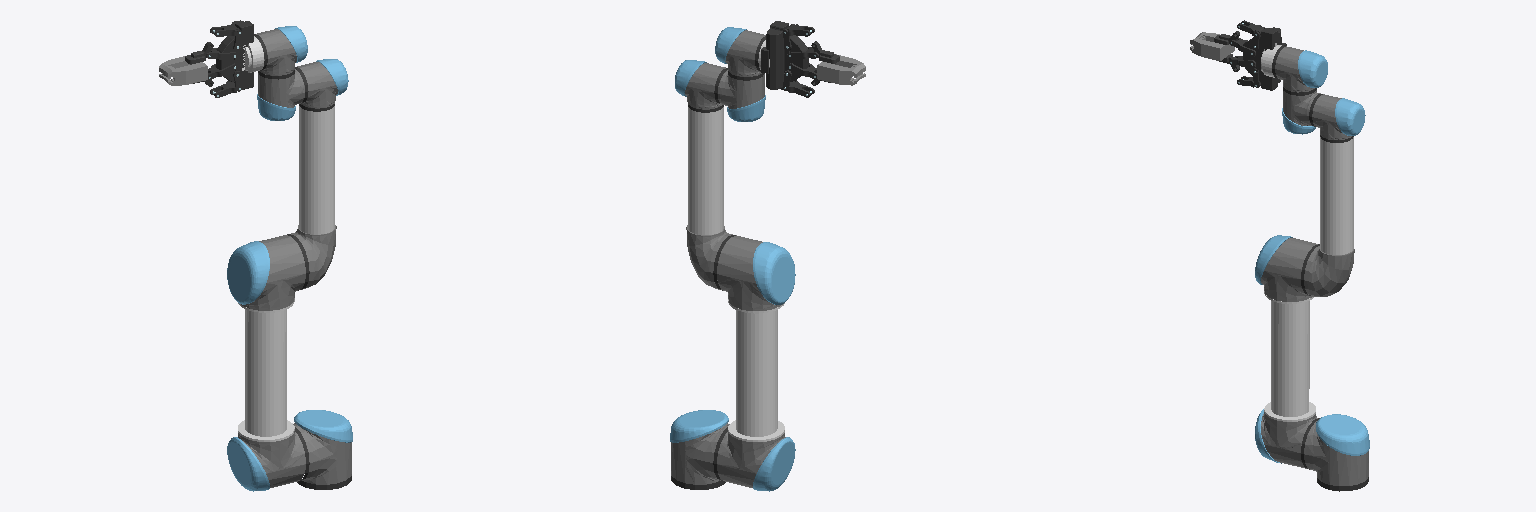
--- What the picture shows (computed from the rendered views, not written in the file) ---
Views: 3 orthographic renders of the robot side by side, from view 1: azimuth 30°, elevation 25°; view 2: azimuth 150°, elevation 25°; view 3: azimuth 330°, elevation 25°.
Model robot_base_respondable with 17 links and 16 joints (10 revolute, 6 continuous), rooted at robot_base, posed every joint at zero.
Links seen in each view (by area): view 1: link_2_respondable_respondable_respondable_respondable_respondab, link_3_respondable_respondable_respondable_respondable_respondab, link_respondable_respondable_respondable_respondable_respondable, link_5_respondable_respondable_respondable_respondable_respondab, link_4_respondable_respondable_respondable_respondable_respondab, robotiq_base_respondable_respondable_respondable_respondable_res, dynamic, link_6_respondable_respondable_respondable_respondable_respondab; view 2: link_2_respondable_respondable_respondable_respondable_respondab, link_3_respondable_respondable_respondable_respondable_respondab, link_respondable_respondable_respondable_respondable_respondable, link_5_respondable_respondable_respondable_respondable_respondab, link_4_respondable_respondable_respondable_respondable_respondab, robotiq_base_respondable_respondable_respondable_respondable_res, dynamic; view 3: link_2_respondable_respondable_respondable_respondable_respondab, link_3_respondable_respondable_respondable_respondable_respondab, link_respondable_respondable_respondable_respondable_respondable, link_5_respondable_respondable_respondable_respondable_respondab, link_4_respondable_respondable_respondable_respondable_respondab, robotiq_base_respondable_respondable_respondable_respondable_res, dynamic.
Boxes of the visible links, left/top/right/bottom form: link_2_respondable_respondable_respondable_respondable_respondab: left=227, top=234, right=309, bottom=491; link_3_respondable_respondable_respondable_respondable_respondab: left=288, top=59, right=348, bottom=289; link_respondable_respondable_respondable_respondable_respondable: left=293, top=410, right=352, bottom=484; link_5_respondable_respondable_respondable_respondable_respondab: left=254, top=26, right=307, bottom=79; link_4_respondable_respondable_respondable_respondable_respondab: left=257, top=66, right=308, bottom=120; robotiq_base_respondable_respondable_respondable_respondable_res: left=216, top=20, right=253, bottom=89; dynamic: left=159, top=56, right=207, bottom=85; link_6_respondable_respondable_respondable_respondable_respondab: left=245, top=36, right=263, bottom=72; link_2_respondable_respondable_respondable_respondable_respondab: left=713, top=235, right=795, bottom=491; link_3_respondable_respondable_respondable_respondable_respondab: left=675, top=60, right=732, bottom=289; link_respondable_respondable_respondable_respondable_respondable: left=670, top=410, right=729, bottom=484; link_5_respondable_respondable_respondable_respondable_respondab: left=715, top=27, right=765, bottom=80; link_4_respondable_respondable_respondable_respondable_respondab: left=714, top=68, right=765, bottom=121; robotiq_base_respondable_respondable_respondable_respondable_res: left=761, top=21, right=808, bottom=89; dynamic: left=817, top=54, right=865, bottom=85; link_2_respondable_respondable_respondable_respondable_respondab: left=1255, top=235, right=1319, bottom=468; link_3_respondable_respondable_respondable_respondable_respondab: left=1304, top=94, right=1365, bottom=296; link_respondable_respondable_respondable_respondable_respondable: left=1301, top=414, right=1369, bottom=485; link_5_respondable_respondable_respondable_respondable_respondab: left=1272, top=46, right=1327, bottom=95; link_4_respondable_respondable_respondable_respondable_respondab: left=1282, top=90, right=1322, bottom=134; robotiq_base_respondable_respondable_respondable_respondable_res: left=1243, top=27, right=1286, bottom=90; dynamic: left=1190, top=32, right=1234, bottom=60.
Bounding box of the posed robot: 0.4362 × 0.12 × 1.06 m (x, y, z).
Meshes: 42 distinct files referenced, 42 mesh visuals loaded (42 Collada DAE).

URDF robot description (robot_base_respondable):
<?xml version="1.0"?>
<robot name="robot_base_respondable">
    <link name="robot_base">
        <collision name="robot_base_respondable">
            <origin rpy="3.141592 3.141593 -2.552481" xyz="0.000000 0.000000 0.008500" />
            <geometry>
                <cylinder length="0.012300089001656" radius="0.056886240839958" />
            </geometry>
        </collision>
        <collision name="robot_base_respondable">
            <origin rpy="-3.141592 3.141593 1.747927" xyz="0.000000 0.000000 -0.006150" />
            <geometry>
                <cylinder length="0.017000352963805" radius="0.072642646729946" />
            </geometry>
        </collision>
        <visual name="robot_base_visual">
            <origin rpy="3.141592 3.141593 3.141592" xyz="0.000000 0.000000 -0.000000" />
            <geometry>
                <mesh filename="models/urdf/ur5_industrial_09301/ur5_industrial_09301_robot_base_visual_vis_1.dae" />
            </geometry>
            <material name="robot_base_visual_material">
                <color rgba="0.282353 0.282353 0.282353 1.0" />
            </material>
        </visual>
    </link>
    <joint name="joint" type="revolute">
        <axis xyz="0 0 1" />
        <limit upper="6.2831854820251" velocity="1.5707963705063" effort="200.0" lower="-6.2831854820251" />
        <parent link="robot_base" />
        <child link="link_respondable_respondable_respondable_respondable_respondable_respondable" />
        <origin rpy="3.141592 3.141593 3.141592" xyz="-0.000000 0.000000 0.008500" />
    </joint>
    <link name="link_respondable_respondable_respondable_respondable_respondable_respondable">
        <inertial>
            <origin rpy="3.141592 3.141593 3.141592" xyz="-0.012312 0.000048 0.066405" />
            <inertia izz="0.09818059467752" iyy="0.10672965841326" ixy="8.9516803607533e-05" ixx="0.095492165355254" iyz="-7.9251186174956e-05" ixz="0.0024490834762624" />
            <mass value="2.5" />
        </inertial>
        <collision name="link_respondable_respondable_respondable_respondable_respondable_respondable">
            <origin rpy="3.141592 3.141593 3.141592" xyz="-0.007178 0.000095 0.070381" />
            <geometry>
                <mesh filename="models/urdf/ur5_industrial_09301/ur5_industrial_09301_link_respondable_respondable_respondable_respondable_respondable_respondable_coll_1.dae" />
            </geometry>
        </collision>
        <collision name="link_respondable_respondable_respondable_respondable_respondable_respondable">
            <origin rpy="3.141592 3.141593 3.141592" xyz="-0.007178 0.000095 0.070381" />
            <geometry>
                <mesh filename="models/urdf/ur5_industrial_09301/ur5_industrial_09301_link_respondable_respondable_respondable_respondable_respondable_respondable_coll_2.dae" />
            </geometry>
        </collision>
        <collision name="link_respondable_respondable_respondable_respondable_respondable_respondable">
            <origin rpy="3.141592 3.141593 3.141592" xyz="-0.007178 0.000095 0.070381" />
            <geometry>
                <mesh filename="models/urdf/ur5_industrial_09301/ur5_industrial_09301_link_respondable_respondable_respondable_respondable_respondable_respondable_coll_3.dae" />
            </geometry>
        </collision>
        <visual name="link_respondable_respondable_respondable_respondable_respondable_visual">
            <origin rpy="3.141592 3.141593 3.141592" xyz="-0.007150 0.000000 0.070335" />
            <geometry>
                <mesh filename="models/urdf/ur5_industrial_09301/ur5_industrial_09301_link_respondable_respondable_respondable_respondable_respondable_visual_vis_1.dae" />
            </geometry>
            <material name="link_respondable_respondable_respondable_respondable_respondable_visual_material">
                <color rgba="0.282353 0.282353 0.282353 1.0" />
            </material>
        </visual>
        <visual name="link_respondable_respondable_respondable_respondable_respondable_visual">
            <origin rpy="3.141592 3.141593 3.141592" xyz="-0.007150 0.000000 0.070335" />
            <geometry>
                <mesh filename="models/urdf/ur5_industrial_09301/ur5_industrial_09301_link_respondable_respondable_respondable_respondable_respondable_visual_vis_2.dae" />
            </geometry>
            <material name="link_respondable_respondable_respondable_respondable_respondable_visual_material">
                <color rgba="0.535294 0.535294 0.535294 1.0" />
            </material>
        </visual>
        <visual name="link_respondable_respondable_respondable_respondable_respondable_visual">
            <origin rpy="3.141592 3.141593 3.141592" xyz="-0.007150 0.000000 0.070335" />
            <geometry>
                <mesh filename="models/urdf/ur5_industrial_09301/ur5_industrial_09301_link_respondable_respondable_respondable_respondable_respondable_visual_vis_3.dae" />
            </geometry>
            <material name="link_respondable_respondable_respondable_respondable_respondable_visual_material">
                <color rgba="0.508235 0.761224 0.903529 1.0" />
            </material>
        </visual>
    </link>
    <joint name="joint_2" type="revolute">
        <axis xyz="0 0 1" />
        <limit upper="6.2831854820251" velocity="1.5707963705063" effort="200.0" lower="-6.2831854820251" />
        <parent link="link_respondable_respondable_respondable_respondable_respondable_respondable" />
        <child link="link_2_respondable_respondable_respondable_respondable_respondable_respondable" />
        <origin rpy="0.000001 -1.570796 0.000000" xyz="-0.070300 0.000000 0.066050" />
    </joint>
    <link name="link_2_respondable_respondable_respondable_respondable_respondable_respondable">
        <inertial>
            <origin rpy="-0.000000 1.570796 0.000000" xyz="0.215595 -0.000035 0.063573" />
            <inertia izz="0.067345368316432" iyy="0.63325135224174" ixy="9.2431180680848e-06" ixx="0.62573305153059" iyz="-0.00017721757850982" ixz="-0.0052638063542259" />
            <mass value="5.6999998092651" />
        </inertial>
        <collision name="link_2_respondable_respondable_respondable_respondable_respondable_respondable">
            <origin rpy="-0.000000 1.570796 0.000000" xyz="0.212550 -0.000115 0.064235" />
            <geometry>
                <mesh filename="models/urdf/ur5_industrial_09301/ur5_industrial_09301_link_2_respondable_respondable_respondable_respondable_respondable_respondable_coll_1.dae" />
            </geometry>
        </collision>
        <collision name="link_2_respondable_respondable_respondable_respondable_respondable_respondable">
            <origin rpy="-0.000000 1.570796 0.000000" xyz="0.212550 -0.000115 0.064235" />
            <geometry>
                <mesh filename="models/urdf/ur5_industrial_09301/ur5_industrial_09301_link_2_respondable_respondable_respondable_respondable_respondable_respondable_coll_2.dae" />
            </geometry>
        </collision>
        <collision name="link_2_respondable_respondable_respondable_respondable_respondable_respondable">
            <origin rpy="-0.000000 1.570796 0.000000" xyz="0.212550 -0.000115 0.064235" />
            <geometry>
                <mesh filename="models/urdf/ur5_industrial_09301/ur5_industrial_09301_link_2_respondable_respondable_respondable_respondable_respondable_respondable_coll_3.dae" />
            </geometry>
        </collision>
        <collision name="link_2_respondable_respondable_respondable_respondable_respondable_respondable">
            <origin rpy="-0.000000 1.570796 0.000000" xyz="0.212550 -0.000115 0.064235" />
            <geometry>
                <mesh filename="models/urdf/ur5_industrial_09301/ur5_industrial_09301_link_2_respondable_respondable_respondable_respondable_respondable_respondable_coll_4.dae" />
            </geometry>
        </collision>
        <collision name="link_2_respondable_respondable_respondable_respondable_respondable_respondable">
            <origin rpy="-0.000000 1.570796 0.000000" xyz="0.212550 -0.000115 0.064235" />
            <geometry>
                <mesh filename="models/urdf/ur5_industrial_09301/ur5_industrial_09301_link_2_respondable_respondable_respondable_respondable_respondable_respondable_coll_5.dae" />
            </geometry>
        </collision>
        <collision name="link_2_respondable_respondable_respondable_respondable_respondable_respondable">
            <origin rpy="-0.000000 1.570796 0.000000" xyz="0.212550 -0.000115 0.064235" />
            <geometry>
                <mesh filename="models/urdf/ur5_industrial_09301/ur5_industrial_09301_link_2_respondable_respondable_respondable_respondable_respondable_respondable_coll_6.dae" />
            </geometry>
        </collision>
        <collision name="link_2_respondable_respondable_respondable_respondable_respondable_respondable">
            <origin rpy="-0.000000 1.570796 0.000000" xyz="0.212550 -0.000115 0.064235" />
            <geometry>
                <mesh filename="models/urdf/ur5_industrial_09301/ur5_industrial_09301_link_2_respondable_respondable_respondable_respondable_respondable_respondable_coll_7.dae" />
            </geometry>
        </collision>
        <visual name="link_2_respondable_respondable_respondable_respondable_respondable_visual">
            <origin rpy="-0.000000 1.570796 0.000000" xyz="0.212550 0.000000 0.064217" />
            <geometry>
                <mesh filename="models/urdf/ur5_industrial_09301/ur5_industrial_09301_link_2_respondable_respondable_respondable_respondable_respondable_visual_vis_1.dae" />
            </geometry>
            <material name="link_2_respondable_respondable_respondable_respondable_respondable_visual_material">
                <color rgba="0.870588 0.870588 0.870588 1.0" />
            </material>
        </visual>
        <visual name="link_2_respondable_respondable_respondable_respondable_respondable_visual">
            <origin rpy="-0.000000 1.570796 0.000000" xyz="0.212550 0.000000 0.064217" />
            <geometry>
                <mesh filename="models/urdf/ur5_industrial_09301/ur5_industrial_09301_link_2_respondable_respondable_respondable_respondable_respondable_visual_vis_2.dae" />
            </geometry>
            <material name="link_2_respondable_respondable_respondable_respondable_respondable_visual_material">
                <color rgba="0.508235 0.761224 0.903529 1.0" />
            </material>
        </visual>
        <visual name="link_2_respondable_respondable_respondable_respondable_respondable_visual">
            <origin rpy="-0.000000 1.570796 0.000000" xyz="0.212550 0.000000 0.064217" />
            <geometry>
                <mesh filename="models/urdf/ur5_industrial_09301/ur5_industrial_09301_link_2_respondable_respondable_respondable_respondable_respondable_visual_vis_3.dae" />
            </geometry>
            <material name="link_2_respondable_respondable_respondable_respondable_respondable_visual_material">
                <color rgba="0.535294 0.535294 0.535294 1.0" />
            </material>
        </visual>
        <visual name="link_2_respondable_respondable_respondable_respondable_respondable_visual">
            <origin rpy="-0.000000 1.570796 0.000000" xyz="0.212550 0.000000 0.064217" />
            <geometry>
                <mesh filename="models/urdf/ur5_industrial_09301/ur5_industrial_09301_link_2_respondable_respondable_respondable_respondable_respondable_visual_vis_4.dae" />
            </geometry>
            <material name="link_2_respondable_respondable_respondable_respondable_respondable_visual_material">
                <color rgba="0.282353 0.282353 0.282353 1.0" />
            </material>
        </visual>
        <visual name="link_2_respondable_respondable_respondable_respondable_respondable_visual">
            <origin rpy="-0.000000 1.570796 0.000000" xyz="0.212550 0.000000 0.064217" />
            <geometry>
                <mesh filename="models/urdf/ur5_industrial_09301/ur5_industrial_09301_link_2_respondable_respondable_respondable_respondable_respondable_visual_vis_5.dae" />
            </geometry>
            <material name="link_2_respondable_respondable_respondable_respondable_respondable_visual_material">
                <color rgba="0.535294 0.535294 0.535294 1.0" />
            </material>
        </visual>
        <visual name="link_2_respondable_respondable_respondable_respondable_respondable_visual">
            <origin rpy="-0.000000 1.570796 0.000000" xyz="0.212550 0.000000 0.064217" />
            <geometry>
                <mesh filename="models/urdf/ur5_industrial_09301/ur5_industrial_09301_link_2_respondable_respondable_respondable_respondable_respondable_visual_vis_6.dae" />
            </geometry>
            <material name="link_2_respondable_respondable_respondable_respondable_respondable_visual_material">
                <color rgba="0.508235 0.761224 0.903529 1.0" />
            </material>
        </visual>
    </link>
    <joint name="joint_3" type="revolute">
        <axis xyz="0 0 1" />
        <limit upper="6.2831854820251" velocity="1.5707963705063" effort="200.0" lower="-6.2831854820251" />
        <parent link="link_2_respondable_respondable_respondable_respondable_respondable_respondable" />
        <child link="link_3_respondable_respondable_respondable_respondable_respondable_respondable" />
        <origin rpy="3.141593 3.141592 3.141592" xyz="0.425100 -0.000000 0.000000" />
    </joint>
    <link name="link_3_respondable_respondable_respondable_respondable_respondable_respondable">
        <inertial>
            <origin rpy="0.000000 1.570796 0.000000" xyz="0.192773 0.000015 -0.050153" />
            <inertia izz="0.035597955537677" iyy="0.46060709235019" ixy="2.2187787147887e-06" ixx="0.4592564485459" iyz="-2.1029099787318e-05" ixz="-0.027670910392482" />
            <mass value="3.9000000953674" />
        </inertial>
        <collision name="link_3_respondable_respondable_respondable_respondable_respondable_respondable">
            <origin rpy="0.000000 1.570796 0.000000" xyz="0.186773 0.000016 -0.057847" />
            <geometry>
                <mesh filename="models/urdf/ur5_industrial_09301/ur5_industrial_09301_link_3_respondable_respondable_respondable_respondable_respondable_respondable_coll_1.dae" />
            </geometry>
        </collision>
        <collision name="link_3_respondable_respondable_respondable_respondable_respondable_respondable">
            <origin rpy="0.000000 1.570796 0.000000" xyz="0.186773 0.000016 -0.057847" />
            <geometry>
                <mesh filename="models/urdf/ur5_industrial_09301/ur5_industrial_09301_link_3_respondable_respondable_respondable_respondable_respondable_respondable_coll_2.dae" />
            </geometry>
        </collision>
        <collision name="link_3_respondable_respondable_respondable_respondable_respondable_respondable">
            <origin rpy="0.000000 1.570796 0.000000" xyz="0.186773 0.000016 -0.057847" />
            <geometry>
                <mesh filename="models/urdf/ur5_industrial_09301/ur5_industrial_09301_link_3_respondable_respondable_respondable_respondable_respondable_respondable_coll_3.dae" />
            </geometry>
        </collision>
        <collision name="link_3_respondable_respondable_respondable_respondable_respondable_respondable">
            <origin rpy="0.000000 1.570796 0.000000" xyz="0.186773 0.000016 -0.057847" />
            <geometry>
                <mesh filename="models/urdf/ur5_industrial_09301/ur5_industrial_09301_link_3_respondable_respondable_respondable_respondable_respondable_respondable_coll_4.dae" />
            </geometry>
        </collision>
        <collision name="link_3_respondable_respondable_respondable_respondable_respondable_respondable">
            <origin rpy="0.000000 1.570796 0.000000" xyz="0.186773 0.000016 -0.057847" />
            <geometry>
                <mesh filename="models/urdf/ur5_industrial_09301/ur5_industrial_09301_link_3_respondable_respondable_respondable_respondable_respondable_respondable_coll_5.dae" />
            </geometry>
        </collision>
        <visual name="link_3_respondable_respondable_respondable_respondable_respondable_visual">
            <origin rpy="0.000000 1.570796 0.000000" xyz="0.186650 -0.000000 -0.057850" />
            <geometry>
                <mesh filename="models/urdf/ur5_industrial_09301/ur5_industrial_09301_link_3_respondable_respondable_respondable_respondable_respondable_visual_vis_1.dae" />
            </geometry>
            <material name="link_3_respondable_respondable_respondable_respondable_respondable_visual_material">
                <color rgba="0.870588 0.870588 0.870588 1.0" />
            </material>
        </visual>
        <visual name="link_3_respondable_respondable_respondable_respondable_respondable_visual">
            <origin rpy="0.000000 1.570796 0.000000" xyz="0.186650 -0.000000 -0.057850" />
            <geometry>
                <mesh filename="models/urdf/ur5_industrial_09301/ur5_industrial_09301_link_3_respondable_respondable_respondable_respondable_respondable_visual_vis_2.dae" />
            </geometry>
            <material name="link_3_respondable_respondable_respondable_respondable_respondable_visual_material">
                <color rgba="0.535294 0.535294 0.535294 1.0" />
            </material>
        </visual>
        <visual name="link_3_respondable_respondable_respondable_respondable_respondable_visual">
            <origin rpy="0.000000 1.570796 0.000000" xyz="0.186650 -0.000000 -0.057850" />
            <geometry>
                <mesh filename="models/urdf/ur5_industrial_09301/ur5_industrial_09301_link_3_respondable_respondable_respondable_respondable_respondable_visual_vis_3.dae" />
            </geometry>
            <material name="link_3_respondable_respondable_respondable_respondable_respondable_visual_material">
                <color rgba="0.508235 0.761224 0.903529 1.0" />
            </material>
        </visual>
        <visual name="link_3_respondable_respondable_respondable_respondable_respondable_visual">
            <origin rpy="0.000000 1.570796 0.000000" xyz="0.186650 -0.000000 -0.057850" />
            <geometry>
                <mesh filename="models/urdf/ur5_industrial_09301/ur5_industrial_09301_link_3_respondable_respondable_respondable_respondable_respondable_visual_vis_4.dae" />
            </geometry>
            <material name="link_3_respondable_respondable_respondable_respondable_respondable_visual_material">
                <color rgba="0.282353 0.282353 0.282353 1.0" />
            </material>
        </visual>
        <visual name="link_3_respondable_respondable_respondable_respondable_respondable_visual">
            <origin rpy="0.000000 1.570796 0.000000" xyz="0.186650 -0.000000 -0.057850" />
            <geometry>
                <mesh filename="models/urdf/ur5_industrial_09301/ur5_industrial_09301_link_3_respondable_respondable_respondable_respondable_respondable_visual_vis_5.dae" />
            </geometry>
            <material name="link_3_respondable_respondable_respondable_respondable_respondable_visual_material">
                <color rgba="0.535294 0.535294 0.535294 1.0" />
            </material>
        </visual>
    </link>
    <joint name="joint_4" type="revolute">
        <axis xyz="0 0 1" />
        <limit upper="6.2831854820251" velocity="1.5707963705063" effort="200.0" lower="-6.2831854820251" />
        <parent link="link_3_respondable_respondable_respondable_respondable_respondable_respondable" />
        <child link="link_4_respondable_respondable_respondable_respondable_respondable_respondable" />
        <origin rpy="3.141593 3.141592 3.141592" xyz="0.392150 -0.000000 0.000000" />
    </joint>
    <link name="link_4_respondable_respondable_respondable_respondable_respondable_respondable">
        <inertial>
            <origin rpy="0.000000 1.570796 0.000000" xyz="-0.005517 -0.000003 0.030943" />
            <inertia izz="0.087106483494915" iyy="0.11466452218562" ixy="3.1976010243315e-06" ixx="0.10017005794782" iyz="-1.791527123899e-05" ixz="-0.0020900872562349" />
            <mass value="2.5" />
        </inertial>
        <collision name="link_4_respondable_respondable_respondable_respondable_respondable_respondable">
            <origin rpy="0.000000 1.570796 0.000000" xyz="-0.007501 -0.000045 0.032830" />
            <geometry>
                <mesh filename="models/urdf/ur5_industrial_09301/ur5_industrial_09301_link_4_respondable_respondable_respondable_respondable_respondable_respondable_coll_1.dae" />
            </geometry>
        </collision>
        <collision name="link_4_respondable_respondable_respondable_respondable_respondable_respondable">
            <origin rpy="0.000000 1.570796 0.000000" xyz="-0.007501 -0.000045 0.032830" />
            <geometry>
                <mesh filename="models/urdf/ur5_industrial_09301/ur5_industrial_09301_link_4_respondable_respondable_respondable_respondable_respondable_respondable_coll_2.dae" />
            </geometry>
        </collision>
        <collision name="link_4_respondable_respondable_respondable_respondable_respondable_respondable">
            <origin rpy="0.000000 1.570796 0.000000" xyz="-0.007501 -0.000045 0.032830" />
            <geometry>
                <mesh filename="models/urdf/ur5_industrial_09301/ur5_industrial_09301_link_4_respondable_respondable_respondable_respondable_respondable_respondable_coll_3.dae" />
            </geometry>
        </collision>
        <visual name="link_4_respondable_respondable_respondable_respondable_respondable_visual">
            <origin rpy="0.000000 1.570796 0.000000" xyz="-0.007500 0.000000 0.032800" />
            <geometry>
                <mesh filename="models/urdf/ur5_industrial_09301/ur5_industrial_09301_link_4_respondable_respondable_respondable_respondable_respondable_visual_vis_1.dae" />
            </geometry>
            <material name="link_4_respondable_respondable_respondable_respondable_respondable_visual_material">
                <color rgba="0.282353 0.282353 0.282353 1.0" />
            </material>
        </visual>
        <visual name="link_4_respondable_respondable_respondable_respondable_respondable_visual">
            <origin rpy="0.000000 1.570796 0.000000" xyz="-0.007500 0.000000 0.032800" />
            <geometry>
                <mesh filename="models/urdf/ur5_industrial_09301/ur5_industrial_09301_link_4_respondable_respondable_respondable_respondable_respondable_visual_vis_2.dae" />
            </geometry>
            <material name="link_4_respondable_respondable_respondable_respondable_respondable_visual_material">
                <color rgba="0.535294 0.535294 0.535294 1.0" />
            </material>
        </visual>
        <visual name="link_4_respondable_respondable_respondable_respondable_respondable_visual">
            <origin rpy="0.000000 1.570796 0.000000" xyz="-0.007500 0.000000 0.032800" />
            <geometry>
                <mesh filename="models/urdf/ur5_industrial_09301/ur5_industrial_09301_link_4_respondable_respondable_respondable_respondable_respondable_visual_vis_3.dae" />
            </geometry>
            <material name="link_4_respondable_respondable_respondable_respondable_respondable_visual_material">
                <color rgba="0.508235 0.761224 0.903529 1.0" />
            </material>
        </visual>
    </link>
    <joint name="joint_5" type="revolute">
        <axis xyz="0 0 1" />
        <limit upper="6.2831854820251" velocity="1.5707963705063" effort="200.0" lower="-6.2831854820251" />
        <parent link="link_4_respondable_respondable_respondable_respondable_respondable_respondable" />
        <child link="link_5_respondable_respondable_respondable_respondable_respondable_respondable" />
        <origin rpy="2.596272 1.570799 2.596272" xyz="0.045575 -0.000000 0.039700" />
    </joint>
    <link name="link_5_respondable_respondable_respondable_respondable_respondable_respondable">
        <inertial>
            <origin rpy="3.141592 3.141593 3.141592" xyz="0.002100 0.000002 0.040669" />
            <inertia izz="0.1041509279002" iyy="0.11739579576874" ixy="-1.5531769026879e-05" ixx="0.08179215416809" iyz="3.8714712477568e-06" ixz="-0.00073245390311674" />
            <mass value="2.5" />
        </inertial>
        <collision name="link_5_respondable_respondable_respondable_respondable_respondable_respondable">
            <origin rpy="3.141592 3.141593 3.141592" xyz="0.003601 0.000045 0.042305" />
            <geometry>
                <mesh filename="models/urdf/ur5_industrial_09301/ur5_industrial_09301_link_5_respondable_respondable_respondable_respondable_respondable_respondable_coll_1.dae" />
            </geometry>
        </collision>
        <collision name="link_5_respondable_respondable_respondable_respondable_respondable_respondable">
            <origin rpy="3.141592 3.141593 3.141592" xyz="0.003601 0.000045 0.042305" />
            <geometry>
                <mesh filename="models/urdf/ur5_industrial_09301/ur5_industrial_09301_link_5_respondable_respondable_respondable_respondable_respondable_respondable_coll_2.dae" />
            </geometry>
        </collision>
        <collision name="link_5_respondable_respondable_respondable_respondable_respondable_respondable">
            <origin rpy="3.141592 3.141593 3.141592" xyz="0.003601 0.000045 0.042305" />
            <geometry>
                <mesh filename="models/urdf/ur5_industrial_09301/ur5_industrial_09301_link_5_respondable_respondable_respondable_respondable_respondable_respondable_coll_3.dae" />
            </geometry>
        </collision>
        <visual name="link_5_respondable_respondable_respondable_respondable_respondable_visual">
            <origin rpy="3.141592 3.141593 3.141592" xyz="0.003600 -0.000000 0.042275" />
            <geometry>
                <mesh filename="models/urdf/ur5_industrial_09301/ur5_industrial_09301_link_5_respondable_respondable_respondable_respondable_respondable_visual_vis_1.dae" />
            </geometry>
            <material name="link_5_respondable_respondable_respondable_respondable_respondable_visual_material">
                <color rgba="0.535294 0.535294 0.535294 1.0" />
            </material>
        </visual>
        <visual name="link_5_respondable_respondable_respondable_respondable_respondable_visual">
            <origin rpy="3.141592 3.141593 3.141592" xyz="0.003600 -0.000000 0.042275" />
            <geometry>
                <mesh filename="models/urdf/ur5_industrial_09301/ur5_industrial_09301_link_5_respondable_respondable_respondable_respondable_respondable_visual_vis_2.dae" />
            </geometry>
            <material name="link_5_respondable_respondable_respondable_respondable_respondable_visual_material">
                <color rgba="0.508235 0.761224 0.903529 1.0" />
            </material>
        </visual>
        <visual name="link_5_respondable_respondable_respondable_respondable_respondable_visual">
            <origin rpy="3.141592 3.141593 3.141592" xyz="0.003600 -0.000000 0.042275" />
            <geometry>
                <mesh filename="models/urdf/ur5_industrial_09301/ur5_industrial_09301_link_5_respondable_respondable_respondable_respondable_respondable_visual_vis_3.dae" />
            </geometry>
            <material name="link_5_respondable_respondable_respondable_respondable_respondable_visual_material">
                <color rgba="0.282353 0.282353 0.282353 1.0" />
            </material>
        </visual>
        <visual name="link_5_respondable_respondable_respondable_respondable_respondable_visual">
            <origin rpy="3.141592 3.141593 3.141592" xyz="0.003600 -0.000000 0.042275" />
            <geometry>
                <mesh filename="models/urdf/ur5_industrial_09301/ur5_industrial_09301_link_5_respondable_respondable_respondable_respondable_respondable_visual_vis_4.dae" />
            </geometry>
            <material name="link_5_respondable_respondable_respondable_respondable_respondable_visual_material">
                <color rgba="0.282353 0.282353 0.282353 1.0" />
            </material>
        </visual>
    </link>
    <joint name="joint_6" type="revolute">
        <axis xyz="0 0 1" />
        <limit upper="6.2831854820251" velocity="1.5707963705063" effort="200.0" lower="-6.2831854820251" />
        <parent link="link_5_respondable_respondable_respondable_respondable_respondable_respondable" />
        <child link="link_6_respondable_respondable_respondable_respondable_respondable_respondable" />
        <origin rpy="-3.141592 4.712385 -3.141592" xyz="0.014425 -0.000000 0.049175" />
    </joint>
    <link name="link_6_respondable_respondable_respondable_respondable_respondable_respondable">
        <inertial>
            <origin rpy="-3.141593 3.141593 3.141592" xyz="0.000000 -0.000000 0.076675" />
            <inertia izz="0.010054638677955" iyy="0.0058406852103875" ixy="-5.1232196104835e-48" ixx="0.0058406852103875" iyz="2.0432933875776e-25" ixz="-2.0432933882088e-25" />
            <mass value="0.69999998807907" />
        </inertial>
        <collision name="link_6_respondable_respondable_respondable_respondable_respondable_respondable">
            <origin rpy="-3.141593 3.141593 3.141592" xyz="0.000000 -0.000000 0.076675" />
            <geometry>
                <cylinder length="0.025500684976578" radius="0.036602452397346" />
            </geometry>
        </collision>
        <visual name="link_6_respondable_respondable_respondable_respondable_respondable_visual">
            <origin rpy="0.000001 1.570796 0.000000" xyz="0.003860 -0.000000 0.080425" />
            <geometry>
                <mesh filename="models/urdf/ur5_industrial_09301/ur5_industrial_09301_link_6_respondable_respondable_respondable_respondable_respondable_visual_vis_1.dae" />
            </geometry>
            <material name="link_6_respondable_respondable_respondable_respondable_respondable_visual_material">
                <color rgba="0.870588 0.870588 0.870588 1.0" />
            </material>
        </visual>
    </link>
    <joint name="joint_6_2" type="revolute">
        <axis xyz="0 0 1" />
        <limit upper="6.2831854820251" velocity="1.5707963705063" effort="200.0" lower="-6.2831854820251" />
        <parent link="link_6_respondable_respondable_respondable_respondable_respondable_respondable" />
        <child link="robotiq_base_respondable_respondable_respondable_respondable_respondable_respondable" />
        <origin rpy="1.569831 4.712382 -1.569831" xyz="0.014425 0.000000 0.049175" />
    </joint>
    <link name="robotiq_base_respondable_respondable_respondable_respondable_respondable_respondable">
        <inertial>
            <origin rpy="1.570796 3.141592 -3.141591" xyz="0.043899 0.008350 0.012000" />
            <inertia izz="0.00072521695233332" iyy="0.00024588701243668" ixy="-3.0779821975945e-10" ixx="0.00070222511049253" iyz="-2.9619775595086e-11" ixz="3.003181387601e-05" />
            <mass value="0.5" />
        </inertial>
        <collision name="robotiq_base_respondable_respondable_respondable_respondable_respondable_respondable">
            <origin rpy="1.570796 3.141592 -3.141591" xyz="0.030000 0.010000 0.012000" />
            <geometry>
                <box size="0.017463 0.050800 0.057938" />
            </geometry>
        </collision>
        <collision name="robotiq_base_respondable_respondable_respondable_respondable_respondable_respondable">
            <origin rpy="3.141592 3.141592 -3.141591" xyz="0.083032 -0.004681 0.012000" />
            <geometry>
                <box size="0.040000 0.020600 0.040000" />
            </geometry>
        </collision>
        <collision name="robotiq_base_respondable_respondable_respondable_respondable_respondable_respondable">
            <origin rpy="-0.000001 3.141592 -3.141591" xyz="0.041272 0.009924 0.012000" />
            <geometry>
                <box size="0.030480 0.051435 0.139700" />
            </geometry>
        </collision>
        <visual name="robotiq_base_respondable_respondable_respondable_respondable_respondable_visual">
            <origin rpy="-0.000010 1.570796 0.000000" xyz="0.062151 0.010000 0.012000" />
            <geometry>
                <mesh filename="models/urdf/ur5_industrial_09301/ur5_industrial_09301_robotiq_base_respondable_respondable_respondable_respondable_respondable_visual_vis_1.dae" />
            </geometry>
            <material name="robotiq_base_respondable_respondable_respondable_respondable_respondable_visual_material">
                <color rgba="0.282317 0.282389 0.282389 1.0" />
            </material>
        </visual>
        <visual name="robotiq_base_respondable_respondable_respondable_respondable_respondable_visual">
            <origin rpy="-0.000010 1.570796 0.000000" xyz="0.062151 0.010000 0.012000" />
            <geometry>
                <mesh filename="models/urdf/ur5_industrial_09301/ur5_industrial_09301_robotiq_base_respondable_respondable_respondable_respondable_respondable_visual_vis_2.dae" />
            </geometry>
            <material name="robotiq_base_respondable_respondable_respondable_respondable_respondable_visual_material">
                <color rgba="1.000000 1.000000 1.000000 1.0" />
            </material>
        </visual>
    </link>
    <joint name="joint_6_3" type="revolute">
        <axis xyz="0 0 1" />
        <limit upper="6.2831854820251" velocity="1.5707963705063" effort="200.0" lower="-6.2831854820251" />
        <parent link="robotiq_base_respondable_respondable_respondable_respondable_respondable_respondable" />
        <child link="dynamic" />
        <origin rpy="1.570754 3.141589 -1.570804" xyz="0.030000 0.010000 0.012000" />
    </joint>
    <link name="dynamic">
        <visual name="dynamic">
            <origin rpy="-3.141593 4.712351 1.570792" xyz="-0.015000 0.000000 -0.150000" />
            <geometry>
                <mesh filename="models/urdf/ur5_industrial_09301/ur5_industrial_09301_dynamic_vis_1.dae" />
            </geometry>
            <material name="dynamic_material">
                <color rgba="0.600000 0.600000 0.600000 1.0" />
            </material>
        </visual>
    </link>
    <joint name="Rjoint1" type="revolute">
        <axis xyz="0 0 1" />
        <limit upper="0.78539818525314" velocity="0.69813168048859" effort="1.0" lower="0.0" />
        <parent link="robotiq_base_respondable_respondable_respondable_respondable_respondable_respondable" />
        <child link="Rfinger_respondable_respondable_respondable_respondable_respondable_respondable" />
        <origin rpy="-1.365597 1.570798 -2.936391" xyz="0.074600 -0.004681 -0.000738" />
    </joint>
    <link name="Rfinger_respondable_respondable_respondable_respondable_respondable_respondable">
        <inertial>
            <origin rpy="1.570973 3.138398 -0.197315" xyz="0.005488 0.027095 -0.000010" />
            <inertia izz="7.6569405819033e-06" iyy="2.9984947551464e-05" ixy="2.8300690834922e-21" ixx="3.4844272621657e-05" iyz="2.6073848673186e-20" ixz="2.1062598132683e-20" />
            <mass value="0.10000000149012" />
        </inertial>
        <collision name="Rfinger_respondable_respondable_respondable_respondable_respondable_respondable">
            <origin rpy="1.570973 3.138398 -0.197315" xyz="0.005488 0.027095 -0.000010" />
            <geometry>
                <box size="0.015803 0.033427 0.071444" />
            </geometry>
        </collision>
        <visual name="Rfinger_respondable_respondable_respondable_respondable_respondable_visual">
            <origin rpy="1.570973 3.138398 -0.197315" xyz="0.005488 0.027095 -0.000010" />
            <geometry>
                <mesh filename="models/urdf/ur5_industrial_09301/ur5_industrial_09301_Rfinger_respondable_respondable_respondable_respondable_respondable_visual_vis_1.dae" />
            </geometry>
            <material name="Rfinger_respondable_respondable_respondable_respondable_respondable_visual_material">
                <color rgba="0.282317 0.282389 0.282389 1.0" />
            </material>
        </visual>
        <visual name="Rfinger_respondable_respondable_respondable_respondable_respondable_visual">
            <origin rpy="1.570973 3.138398 -0.197315" xyz="0.005488 0.027095 -0.000010" />
            <geometry>
                <mesh filename="models/urdf/ur5_industrial_09301/ur5_industrial_09301_Rfinger_respondable_respondable_respondable_respondable_respondable_visual_vis_2.dae" />
            </geometry>
            <material name="Rfinger_respondable_respondable_respondable_respondable_respondable_visual_material">
                <color rgba="0.837524 0.970755 1.000000 1.0" />
            </material>
        </visual>
    </link>
    <joint name="Rjoint2" type="continuous">
        <axis xyz="0 0 1" />
        <parent link="Rfinger_respondable_respondable_respondable_respondable_respondable_respondable" />
        <child link="RfingerTip_respondable_respondable_respondable_respondable_respondable_respondable" />
        <origin rpy="3.141588 3.141599 -2.617992" xyz="0.011178 0.055908 -0.000005" />
    </joint>
    <link name="RfingerTip_respondable_respondable_respondable_respondable_respondable_respondable">
        <inertial>
            <origin rpy="1.570807 3.141584 2.617863" xyz="0.011427 0.016336 0.000003" />
            <inertia izz="1.0653877098426e-05" iyy="3.3094096464058e-05" ixy="-1.5997928581758e-09" ixx="3.0898972527854e-05" iyz="3.040203109114e-09" ixz="9.351945982435e-06" />
            <mass value="0.10000000149012" />
        </inertial>
        <collision name="RfingerTip_respondable_respondable_respondable_respondable_respondable_respondable">
            <origin rpy="1.570807 3.141584 2.617863" xyz="0.011082 0.025433 0.000005" />
            <geometry>
                <box size="0.009509 0.025404 0.036832" />
            </geometry>
        </collision>
        <collision name="RfingerTip_respondable_respondable_respondable_respondable_respondable_respondable">
            <origin rpy="-1.570950 3.141603 -0.523730" xyz="0.014106 0.016939 0.000003" />
            <geometry>
                <box size="0.008509 0.014223 0.025144" />
            </geometry>
        </collision>
        <collision name="RfingerTip_respondable_respondable_respondable_respondable_respondable_respondable">
            <origin rpy="2.669909 1.571059 -1.519009" xyz="0.009791 -0.010308 -0.000000" />
            <geometry>
                <box size="0.011078 0.012672 0.022135" />
            </geometry>
        </collision>
        <visual name="RfingerTip_respondable_respondable_respondable_respondable_respondable_visual">
            <origin rpy="1.570938 3.141584 2.617889" xyz="0.015278 0.010303 0.000004" />
            <geometry>
                <mesh filename="models/urdf/ur5_industrial_09301/ur5_industrial_09301_RfingerTip_respondable_respondable_respondable_respondable_respondable_visual_vis_1.dae" />
            </geometry>
            <material name="RfingerTip_respondable_respondable_respondable_respondable_respondable_visual_material">
                <color rgba="0.282317 0.282389 0.282389 1.0" />
            </material>
        </visual>
        <visual name="RfingerTip_respondable_respondable_respondable_respondable_respondable_visual">
            <origin rpy="1.570938 3.141584 2.617889" xyz="0.015278 0.010303 0.000004" />
            <geometry>
                <mesh filename="models/urdf/ur5_industrial_09301/ur5_industrial_09301_RfingerTip_respondable_respondable_respondable_respondable_respondable_visual_vis_2.dae" />
            </geometry>
            <material name="RfingerTip_respondable_respondable_respondable_respondable_respondable_visual_material">
                <color rgba="0.305882 0.305882 0.305882 1.0" />
            </material>
        </visual>
    </link>
    <joint name="RactiveJoint" type="continuous">
        <axis xyz="0 0 1" />
        <parent link="robotiq_base_respondable_respondable_respondable_respondable_respondable_respondable" />
        <child link="RauxLink1Visible_visual_visual_visual_visual_visual_visual" />
        <origin rpy="-1.365597 1.570798 -2.936391" xyz="0.067942 -0.004681 -0.018601" />
    </joint>
    <link name="RauxLink1Visible_visual_visual_visual_visual_visual_visual">
        <visual name="RauxLink1Visible_visual_visual_visual_visual_visual_visual">
            <origin rpy="-1.570931 3.141677 -1.674482" xyz="0.014963 -0.001623 0.000001" />
            <geometry>
                <mesh filename="models/urdf/ur5_industrial_09301/ur5_industrial_09301_RauxLink1Visible_visual_visual_visual_visual_visual_visual_vis_1.dae" />
            </geometry>
            <material name="RauxLink1Visible_visual_visual_visual_visual_visual_visual_material">
                <color rgba="0.282317 0.282389 0.282389 1.0" />
            </material>
        </visual>
        <visual name="RauxLink1Visible_visual_visual_visual_visual_visual_visual">
            <origin rpy="-1.570931 3.141677 -1.674482" xyz="0.014963 -0.001623 0.000001" />
            <geometry>
                <mesh filename="models/urdf/ur5_industrial_09301/ur5_industrial_09301_RauxLink1Visible_visual_visual_visual_visual_visual_visual_vis_2.dae" />
            </geometry>
            <material name="RauxLink1Visible_visual_visual_visual_visual_visual_visual_material">
                <color rgba="0.837524 0.970755 1.000000 1.0" />
            </material>
        </visual>
    </link>
    <joint name="RauxJoint2" type="continuous">
        <axis xyz="0 0 1" />
        <parent link="RauxLink1Visible_visual_visual_visual_visual_visual_visual" />
        <child link="RauxLink2Visible_visual_visual_visual_visual_visual_visual" />
        <origin rpy="-3.141592 3.141593 -3.141592" xyz="0.031465 -0.004244 0.000000" />
    </joint>
    <link name="RauxLink2Visible_visual_visual_visual_visual_visual_visual">
        <visual name="RauxLink2Visible_visual_visual_visual_visual_visual_visual">
            <origin rpy="-1.570795 3.141585 -0.130688" xyz="0.003104 0.023609 0.000000" />
            <geometry>
                <mesh filename="models/urdf/ur5_industrial_09301/ur5_industrial_09301_RauxLink2Visible_visual_visual_visual_visual_visual_visual_vis_1.dae" />
            </geometry>
            <material name="RauxLink2Visible_visual_visual_visual_visual_visual_visual_material">
                <color rgba="0.282317 0.282389 0.282389 1.0" />
            </material>
        </visual>
        <visual name="RauxLink2Visible_visual_visual_visual_visual_visual_visual">
            <origin rpy="-1.570795 3.141585 -0.130688" xyz="0.003104 0.023609 0.000000" />
            <geometry>
                <mesh filename="models/urdf/ur5_industrial_09301/ur5_industrial_09301_RauxLink2Visible_visual_visual_visual_visual_visual_visual_vis_2.dae" />
            </geometry>
            <material name="RauxLink2Visible_visual_visual_visual_visual_visual_visual_material">
                <color rgba="0.837524 0.970755 1.000000 1.0" />
            </material>
        </visual>
    </link>
    <joint name="Ljoint1" type="revolute">
        <axis xyz="0 0 1" />
        <limit upper="0.78539818525314" velocity="0.69813168048859" effort="1.0" lower="0.0" />
        <parent link="robotiq_base_respondable_respondable_respondable_respondable_respondable_respondable" />
        <child link="Lfinger_respondable_respondable_respondable_respondable_respondable_respondable" />
        <origin rpy="-1.570793 -1.570796 0.000000" xyz="0.074600 -0.004681 0.024736" />
    </joint>
    <link name="Lfinger_respondable_respondable_respondable_respondable_respondable_respondable">
        <inertial>
            <origin rpy="1.570973 3.138400 -0.197320" xyz="0.005488 0.027096 0.000000" />
            <inertia izz="7.6569405819033e-06" iyy="2.9984947551464e-05" ixy="5.9165832030089e-21" ixx="3.4844272621657e-05" iyz="3.1849061849001e-20" ixz="1.4177316404393e-20" />
            <mass value="0.10000000149012" />
        </inertial>
        <collision name="Lfinger_respondable_respondable_respondable_respondable_respondable_respondable">
            <origin rpy="1.570973 3.138400 -0.197320" xyz="0.005488 0.027096 0.000000" />
            <geometry>
                <box size="0.015803 0.033427 0.071444" />
            </geometry>
        </collision>
        <visual name="Lfinger_respondable_respondable_respondable_respondable_respondable_visual">
            <origin rpy="1.570973 3.138400 -0.197320" xyz="0.005488 0.027096 0.000000" />
            <geometry>
                <mesh filename="models/urdf/ur5_industrial_09301/ur5_industrial_09301_Lfinger_respondable_respondable_respondable_respondable_respondable_visual_vis_1.dae" />
            </geometry>
            <material name="Lfinger_respondable_respondable_respondable_respondable_respondable_visual_material">
                <color rgba="0.282317 0.282389 0.282389 1.0" />
            </material>
        </visual>
        <visual name="Lfinger_respondable_respondable_respondable_respondable_respondable_visual">
            <origin rpy="1.570973 3.138400 -0.197320" xyz="0.005488 0.027096 0.000000" />
            <geometry>
                <mesh filename="models/urdf/ur5_industrial_09301/ur5_industrial_09301_Lfinger_respondable_respondable_respondable_respondable_respondable_visual_vis_2.dae" />
            </geometry>
            <material name="Lfinger_respondable_respondable_respondable_respondable_respondable_visual_material">
                <color rgba="0.837524 0.970755 1.000000 1.0" />
            </material>
        </visual>
    </link>
    <joint name="Ljoint2" type="continuous">
        <axis xyz="0 0 1" />
        <parent link="Lfinger_respondable_respondable_respondable_respondable_respondable_respondable" />
        <child link="LfingerTip_respondable_respondable_respondable_respondable_respondable_respondable" />
        <origin rpy="3.141589 3.141598 -2.617995" xyz="0.011178 0.055909 0.000005" />
    </joint>
    <link name="LfingerTip_respondable_respondable_respondable_respondable_respondable_respondable">
        <inertial>
            <origin rpy="1.570786 3.141585 2.618120" xyz="0.011428 0.016336 -0.000007" />
            <inertia izz="1.0653864139997e-05" iyy="3.3094096464058e-05" ixy="-1.599790949334e-09" ixx="3.0898985486283e-05" iyz="3.0402050629753e-09" ixz="9.3519319562104e-06" />
            <mass value="0.10000000149012" />
        </inertial>
        <collision name="LfingerTip_respondable_respondable_respondable_respondable_respondable_respondable">
            <origin rpy="1.570786 3.141585 2.618120" xyz="0.011081 0.025434 -0.000005" />
            <geometry>
                <box size="0.009509 0.025404 0.036832" />
            </geometry>
        </collision>
        <collision name="LfingerTip_respondable_respondable_respondable_respondable_respondable_respondable">
            <origin rpy="-1.570929 3.141602 -0.523473" xyz="0.014107 0.016941 -0.000006" />
            <geometry>
                <box size="0.008509 0.014223 0.025144" />
            </geometry>
        </collision>
        <collision name="LfingerTip_respondable_respondable_respondable_respondable_respondable_respondable">
            <origin rpy="2.711576 1.571041 -1.477086" xyz="0.009799 -0.010306 -0.000009" />
            <geometry>
                <box size="0.011078 0.012672 0.022135" />
            </geometry>
        </collision>
        <visual name="LfingerTip_respondable_respondable_respondable_respondable_respondable_visual">
            <origin rpy="1.570917 3.141585 2.618145" xyz="0.015281 0.010303 -0.000006" />
            <geometry>
                <mesh filename="models/urdf/ur5_industrial_09301/ur5_industrial_09301_LfingerTip_respondable_respondable_respondable_respondable_respondable_visual_vis_1.dae" />
            </geometry>
            <material name="LfingerTip_respondable_respondable_respondable_respondable_respondable_visual_material">
                <color rgba="0.282317 0.282389 0.282389 1.0" />
            </material>
        </visual>
        <visual name="LfingerTip_respondable_respondable_respondable_respondable_respondable_visual">
            <origin rpy="1.570917 3.141585 2.618145" xyz="0.015281 0.010303 -0.000006" />
            <geometry>
                <mesh filename="models/urdf/ur5_industrial_09301/ur5_industrial_09301_LfingerTip_respondable_respondable_respondable_respondable_respondable_visual_vis_2.dae" />
            </geometry>
            <material name="LfingerTip_respondable_respondable_respondable_respondable_respondable_visual_material">
                <color rgba="0.305882 0.305882 0.305882 1.0" />
            </material>
        </visual>
    </link>
    <joint name="LactiveJoint" type="continuous">
        <axis xyz="0 0 1" />
        <parent link="robotiq_base_respondable_respondable_respondable_respondable_respondable_respondable" />
        <child link="LauxLink1Visible_visual_visual_visual_visual_visual_visual" />
        <origin rpy="-1.570793 -1.570796 0.000000" xyz="0.067942 -0.004681 0.042599" />
    </joint>
    <link name="LauxLink1Visible_visual_visual_visual_visual_visual_visual">
        <visual name="LauxLink1Visible_visual_visual_visual_visual_visual_visual">
            <origin rpy="-1.570931 3.141677 -1.674482" xyz="0.014963 -0.001623 0.000001" />
            <geometry>
                <mesh filename="models/urdf/ur5_industrial_09301/ur5_industrial_09301_LauxLink1Visible_visual_visual_visual_visual_visual_visual_vis_1.dae" />
            </geometry>
            <material name="LauxLink1Visible_visual_visual_visual_visual_visual_visual_material">
                <color rgba="0.282317 0.282389 0.282389 1.0" />
            </material>
        </visual>
        <visual name="LauxLink1Visible_visual_visual_visual_visual_visual_visual">
            <origin rpy="-1.570931 3.141677 -1.674482" xyz="0.014963 -0.001623 0.000001" />
            <geometry>
                <mesh filename="models/urdf/ur5_industrial_09301/ur5_industrial_09301_LauxLink1Visible_visual_visual_visual_visual_visual_visual_vis_2.dae" />
            </geometry>
            <material name="LauxLink1Visible_visual_visual_visual_visual_visual_visual_material">
                <color rgba="0.837524 0.970755 1.000000 1.0" />
            </material>
        </visual>
    </link>
    <joint name="LauxJoint2" type="continuous">
        <axis xyz="0 0 1" />
        <parent link="LauxLink1Visible_visual_visual_visual_visual_visual_visual" />
        <child link="LauxLink2Visible_visual_visual_visual_visual_visual_visual" />
        <origin rpy="3.141592 3.141593 -3.141592" xyz="0.031465 -0.004244 -0.000000" />
    </joint>
    <link name="LauxLink2Visible_visual_visual_visual_visual_visual_visual">
        <visual name="LauxLink2Visible_visual_visual_visual_visual_visual_visual">
            <origin rpy="-1.570795 3.141585 -0.130688" xyz="0.003104 0.023609 -0.000000" />
            <geometry>
                <mesh filename="models/urdf/ur5_industrial_09301/ur5_industrial_09301_LauxLink2Visible_visual_visual_visual_visual_visual_visual_vis_1.dae" />
            </geometry>
            <material name="LauxLink2Visible_visual_visual_visual_visual_visual_visual_material">
                <color rgba="0.282317 0.282389 0.282389 1.0" />
            </material>
        </visual>
        <visual name="LauxLink2Visible_visual_visual_visual_visual_visual_visual">
            <origin rpy="-1.570795 3.141585 -0.130688" xyz="0.003104 0.023609 -0.000000" />
            <geometry>
                <mesh filename="models/urdf/ur5_industrial_09301/ur5_industrial_09301_LauxLink2Visible_visual_visual_visual_visual_visual_visual_vis_2.dae" />
            </geometry>
            <material name="LauxLink2Visible_visual_visual_visual_visual_visual_visual_material">
                <color rgba="0.837524 0.970755 1.000000 1.0" />
            </material>
        </visual>
    </link>
</robot>
